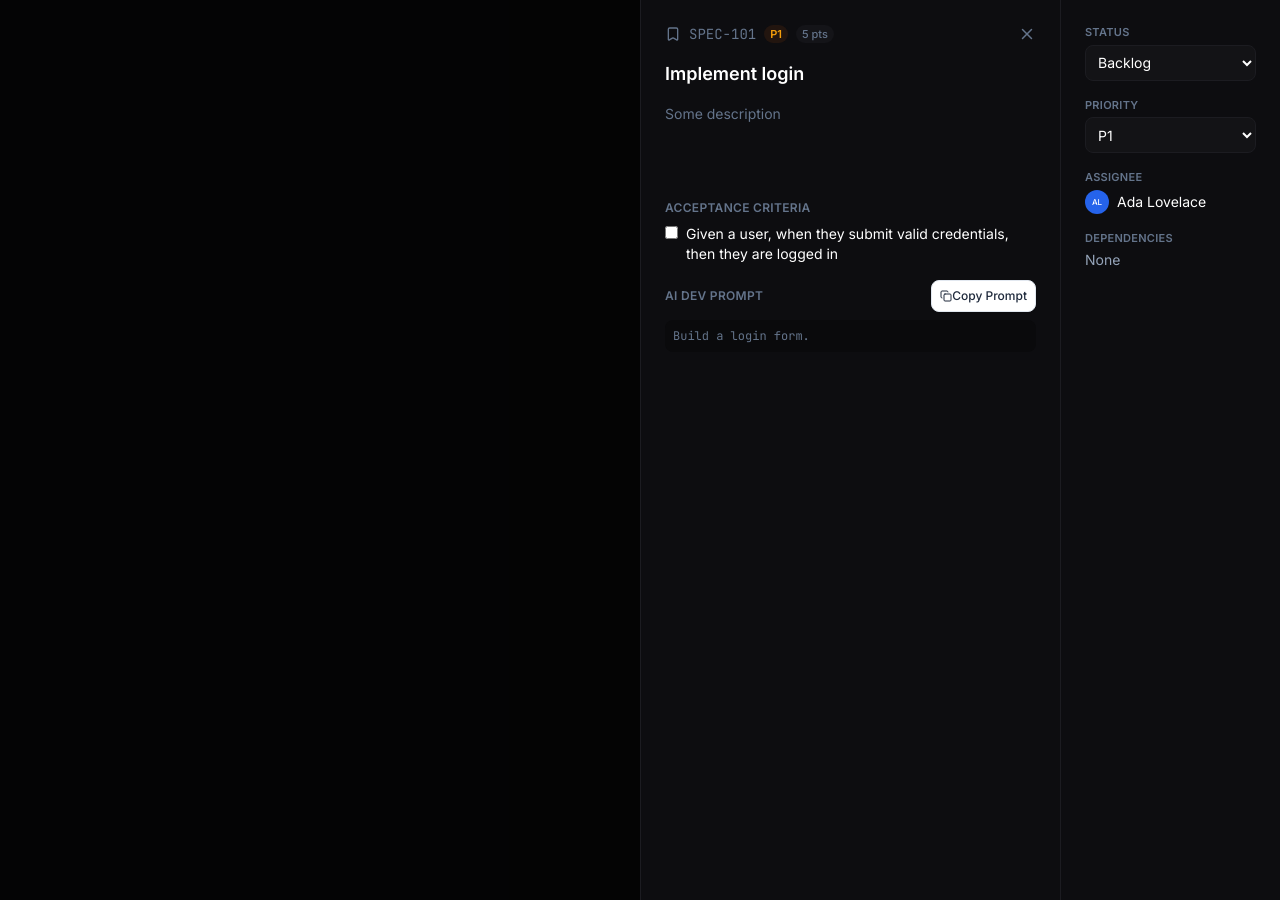
Test: TicketDetailModal › renders the AI Dev Prompt and copies it to the clipboard with Toast feedback
Expected: the text "Build a login form." is shown, [665,320,1036,352]
What coordinates should you click on to do the following:
click the button "Copy Prompt"
I would click on:
 (984, 296)
Its box is [931,280,1036,312].
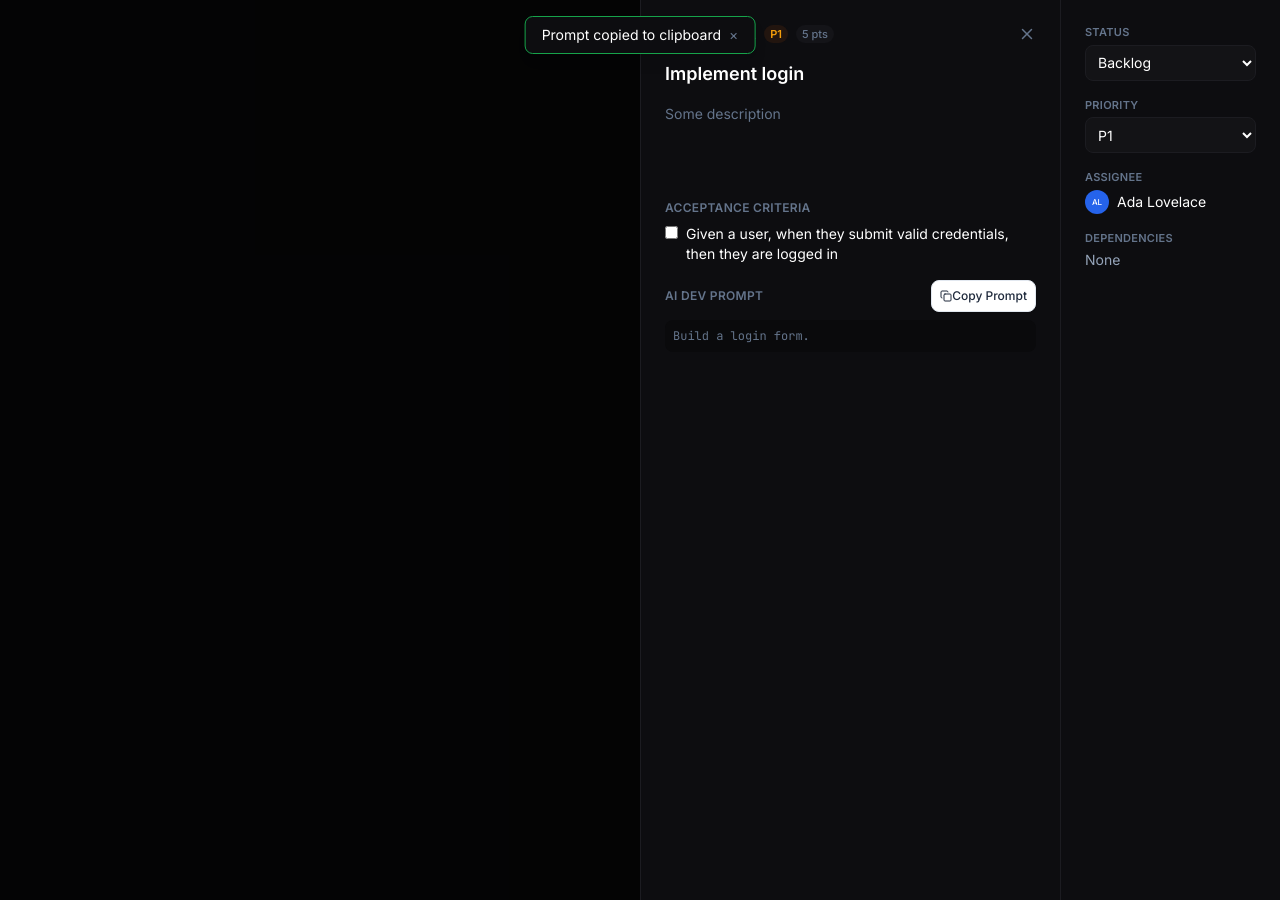
Result: the text "Prompt copied to clipboard" is shown at [542,25,721,45]
